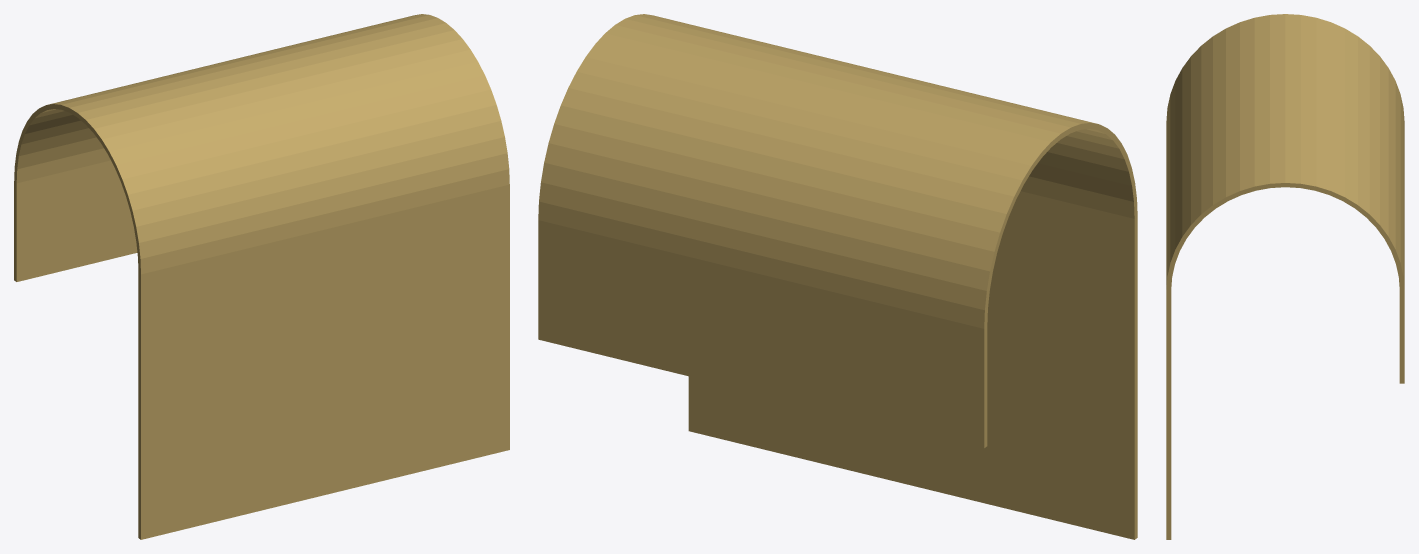
File: flex.glb
3 renders of one model, left to right at view 1: azimuth 30°, elevation 25°; view 2: azimuth 150°, elevation 25°; view 3: azimuth 270°, elevation 25°, orthographic. The views are drawn at different scales.
Visible parts, largest first — view 1: FLEX_0; view 2: FLEX_0; view 3: FLEX_0.
Boxes of the visible parts, x1,y1,x2,y2 form: FLEX_0: (14, 14, 509, 539); FLEX_0: (538, 14, 1137, 539); FLEX_0: (1166, 14, 1404, 539).
Size of the model in its own units: 12.5 by 12.32 by 7.45.
